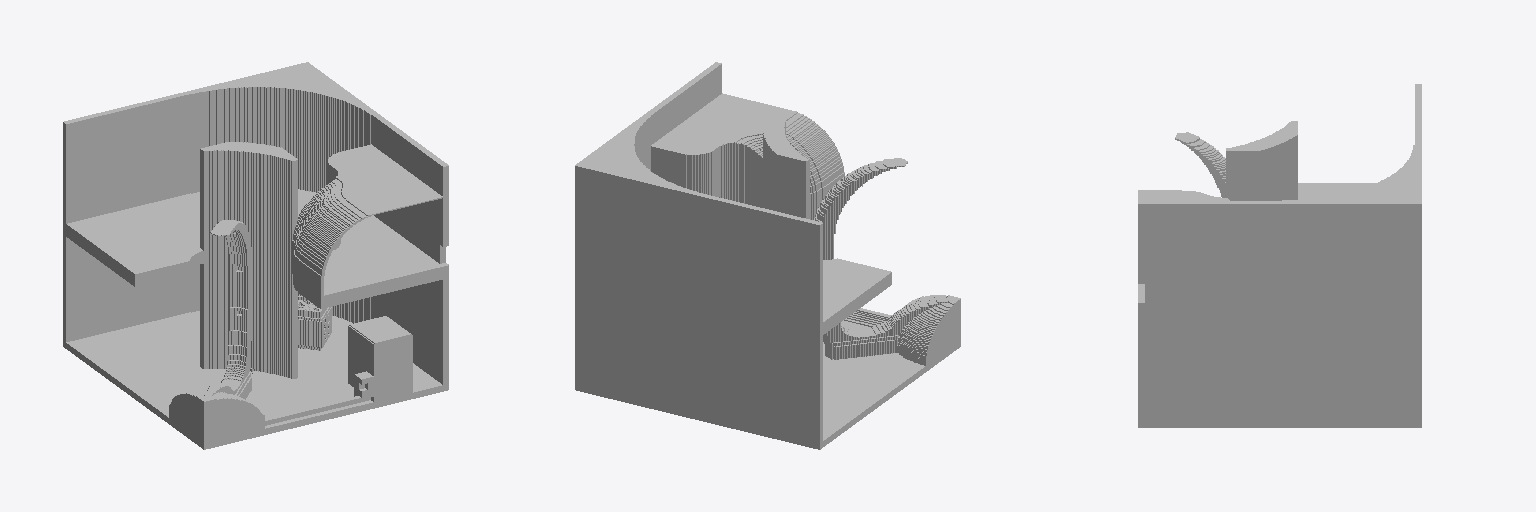
Rendered from FinalRoomBack.obj.
3 views of the same model, side by side, from view 1: azimuth 30°, elevation 25°; view 2: azimuth 150°, elevation 25°; view 3: azimuth 270°, elevation 25° (orthographic).
Visible parts, largest first — view 1: object 1; view 2: object 1; view 3: object 1.
Part boxes in pixels (x1,y1,x2,y2): object 1: (63,62,448,449); object 1: (575,62,960,449); object 1: (1138,84,1421,427).
Size of the model in its own units: 24 by 21 by 24.